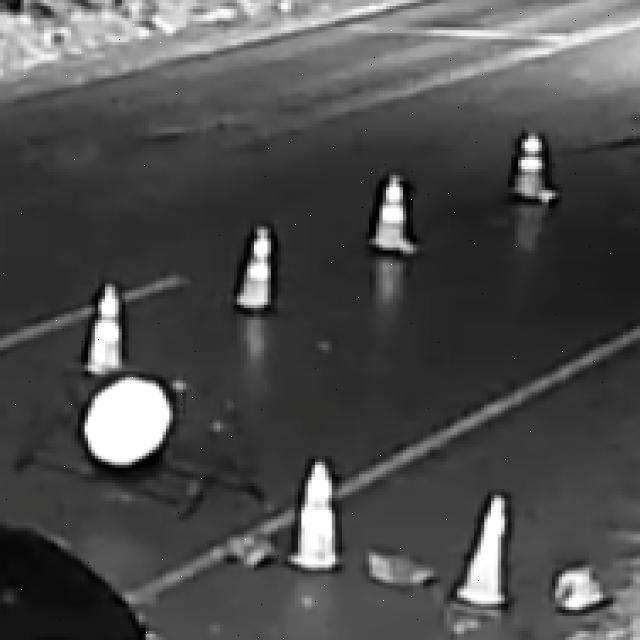small_cone: (453, 487, 516, 614), (294, 458, 341, 574), (84, 280, 132, 380), (364, 171, 417, 260), (512, 128, 560, 208), (236, 222, 271, 311)
